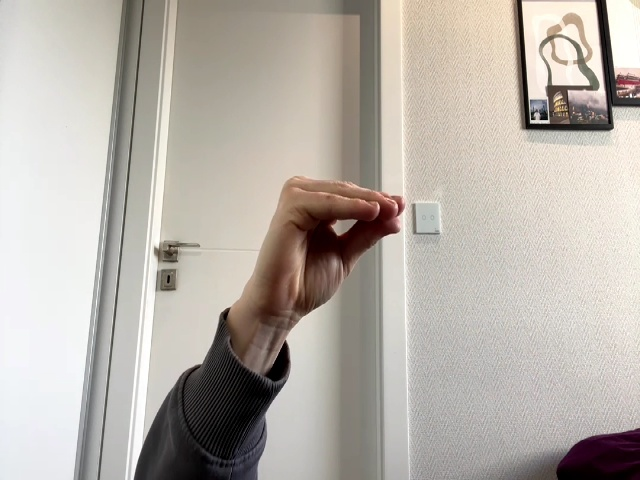E: (244, 176, 404, 351)
